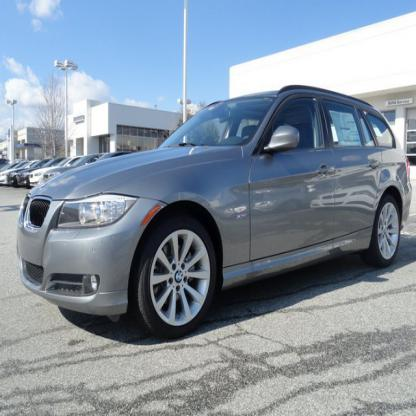Vehicle: (17, 89, 411, 337)
